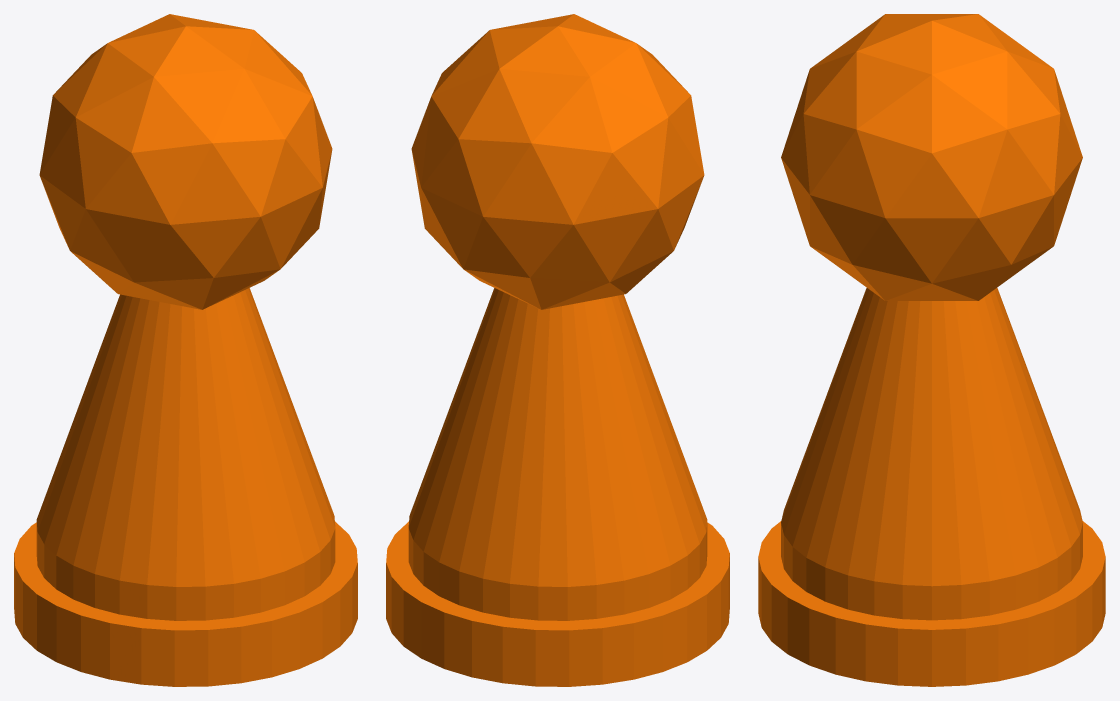
File: PlayerPin.fbx
3 renders of one model, left to right at view 1: azimuth 30°, elevation 25°; view 2: azimuth 150°, elevation 25°; view 3: azimuth 270°, elevation 25°, orthographic.
Parts seen in each view (by area): view 1: Pin; view 2: Pin; view 3: Pin.
Boxes of the visible parts, x1,y1,x2,y2 form: Pin: (14, 14, 357, 686); Pin: (386, 14, 729, 686); Pin: (758, 14, 1105, 686).
Size of the model in its own units: 276 by 520 by 276.
